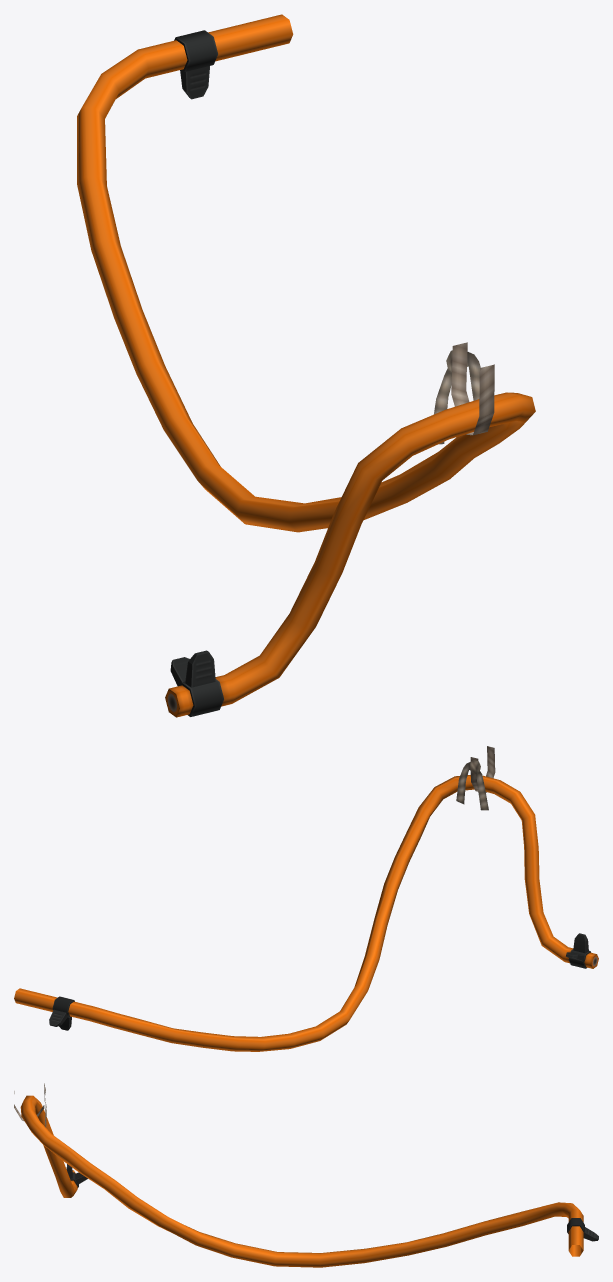
File: jsf_GasRange_15c.fbx
The picture shows the model from 3 angles, top to bottom: view 1: azimuth 30°, elevation 25°; view 2: azimuth 150°, elevation 25°; view 3: azimuth 270°, elevation 25°; orthographic projection. The views are drawn at different scales.
Visible parts, largest first — view 1: GasHose; view 2: GasHose; view 3: GasHose.
Boxes of the visible parts, bbox=[...] form: GasHose: bbox=[77, 14, 535, 717]; GasHose: bbox=[14, 746, 598, 1051]; GasHose: bbox=[14, 1083, 598, 1267].
Size of the model in its own units: 42.28 by 23.12 by 69.18.
